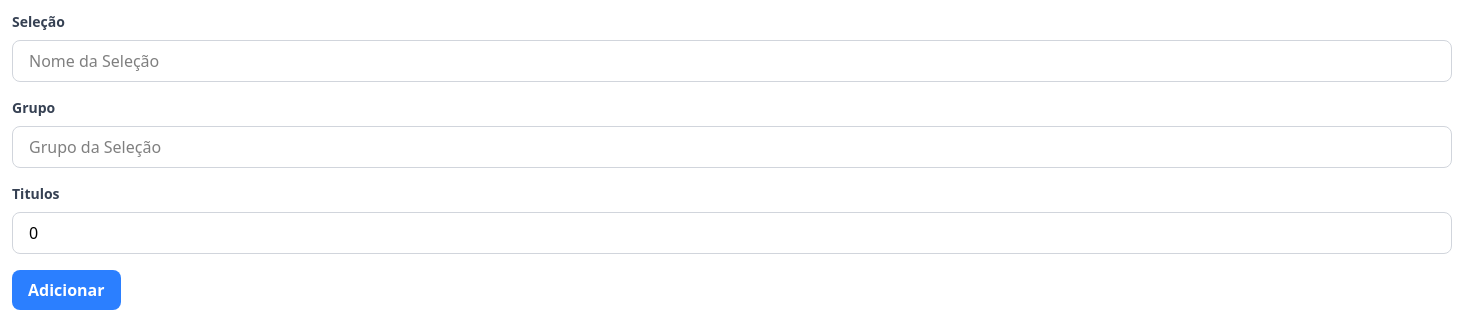
SelecaoForm Component › should reset form fields after submission
Type "Alemanha" into the field labelled "Seleção" at (732, 61), box [12,40,1452,82]
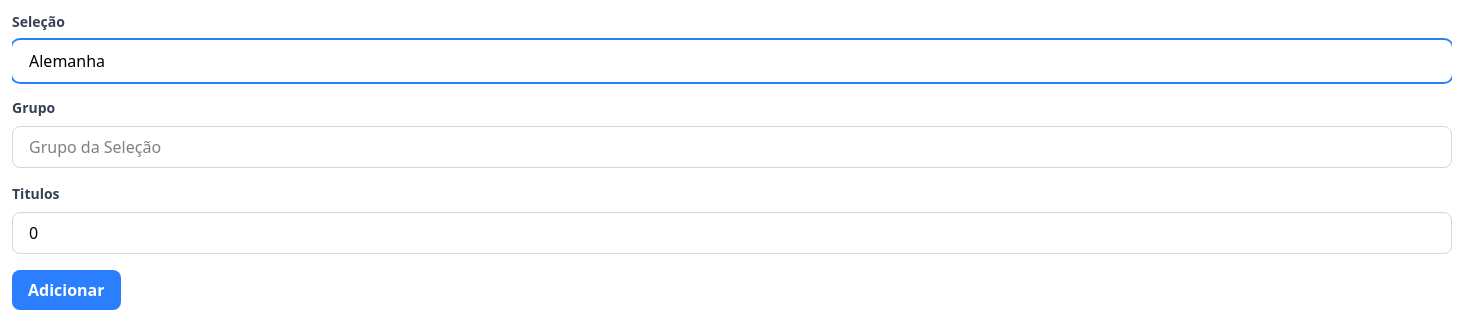
Type "E" into the field labelled "Grupo" at (732, 147), box [12,126,1452,168]
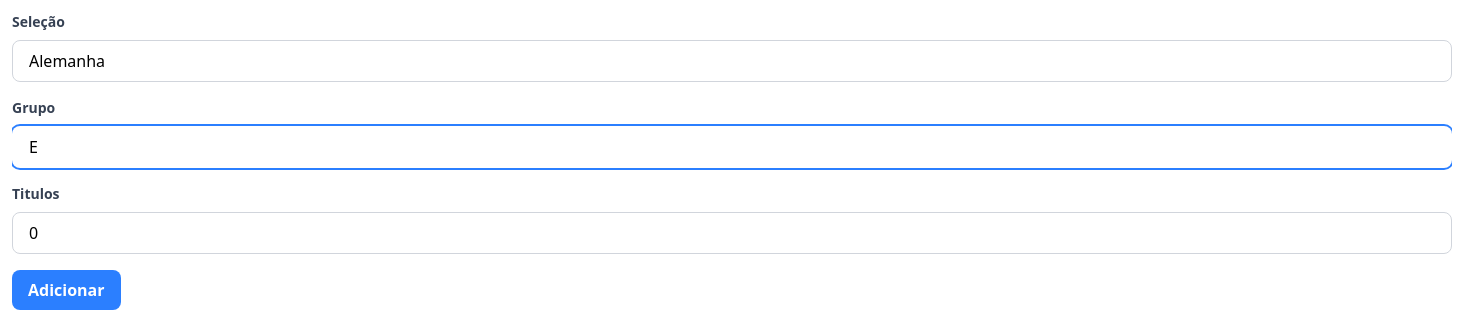
Type "4" into the field labelled "Titulos" at (732, 233), box [12,212,1452,254]
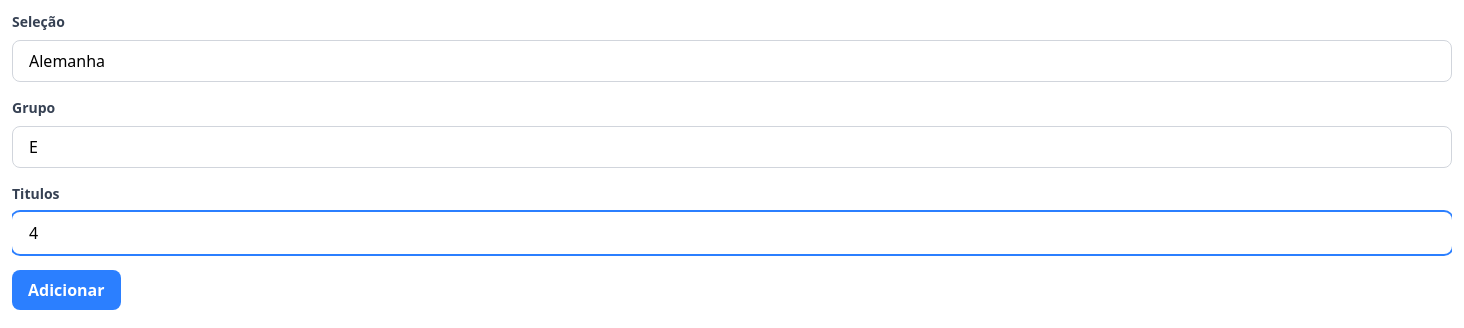
Click the button "Adicionar" at (66, 290), box [12,270,120,310]
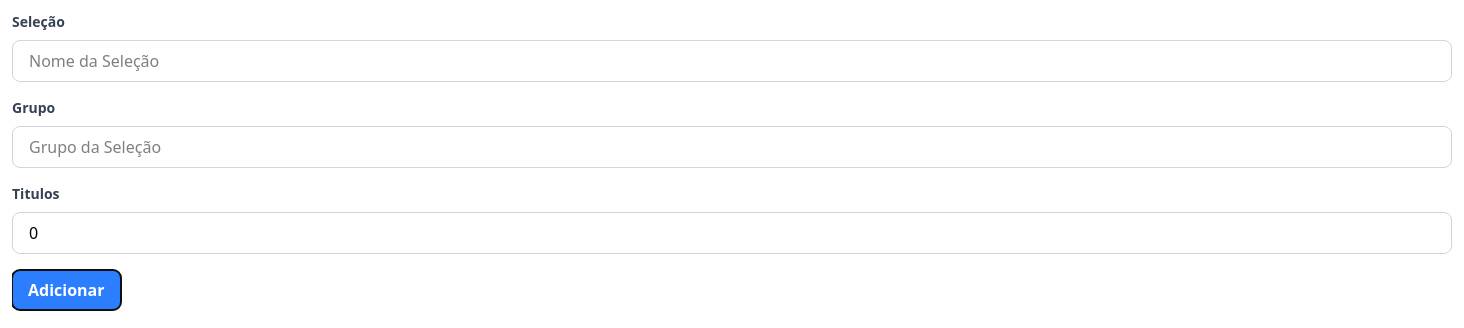
Expected: the field labelled "Seleção" is empty, [12,40,1452,82]
Expected: the field labelled "Grupo" is empty, [12,126,1452,168]
Expected: the field labelled "Titulos" holds "0", [12,212,1452,254]
